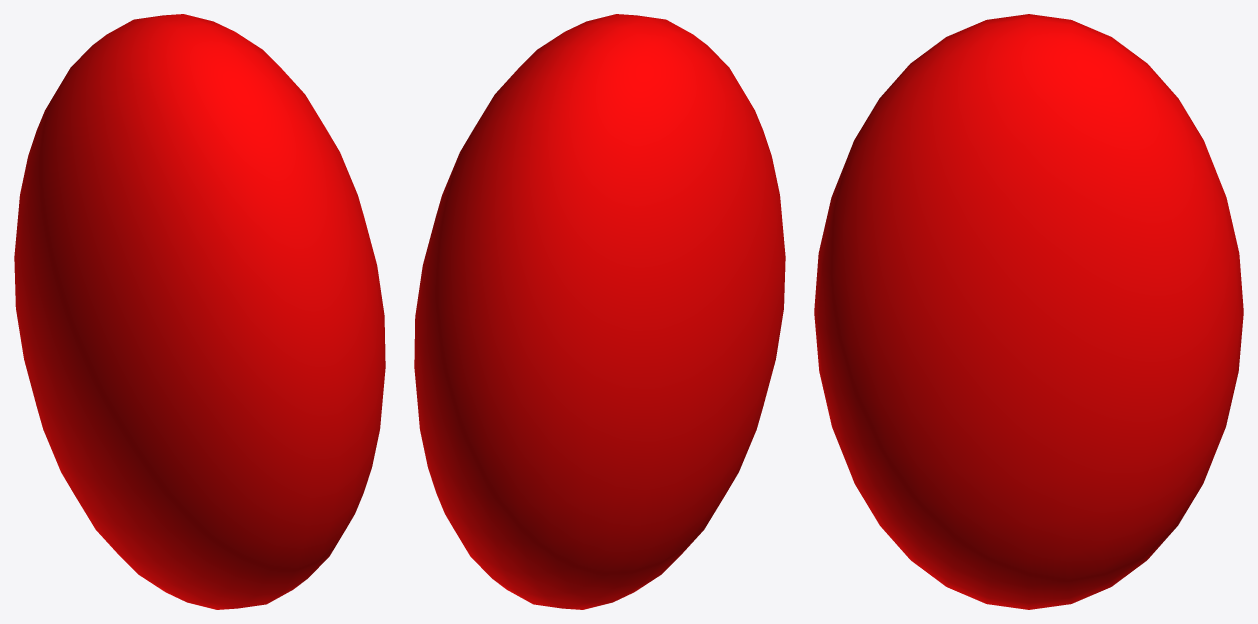
The model's file is Tail_Light_Right.fbx.
3 views of the same model, side by side, from view 1: azimuth 30°, elevation 25°; view 2: azimuth 150°, elevation 25°; view 3: azimuth 270°, elevation 25° (orthographic). The views are drawn at different scales.
Parts seen in each view (by area): view 1: Tail_Light_Right; view 2: Tail_Light_Right; view 3: Tail_Light_Right.
Part boxes in pixels (x1,y1,x2,y2): Tail_Light_Right: [14, 14, 385, 609]; Tail_Light_Right: [414, 14, 785, 609]; Tail_Light_Right: [814, 14, 1243, 609].
Bounding box in the file's own units: 0.2226 × 0.4131 × 0.2858.
